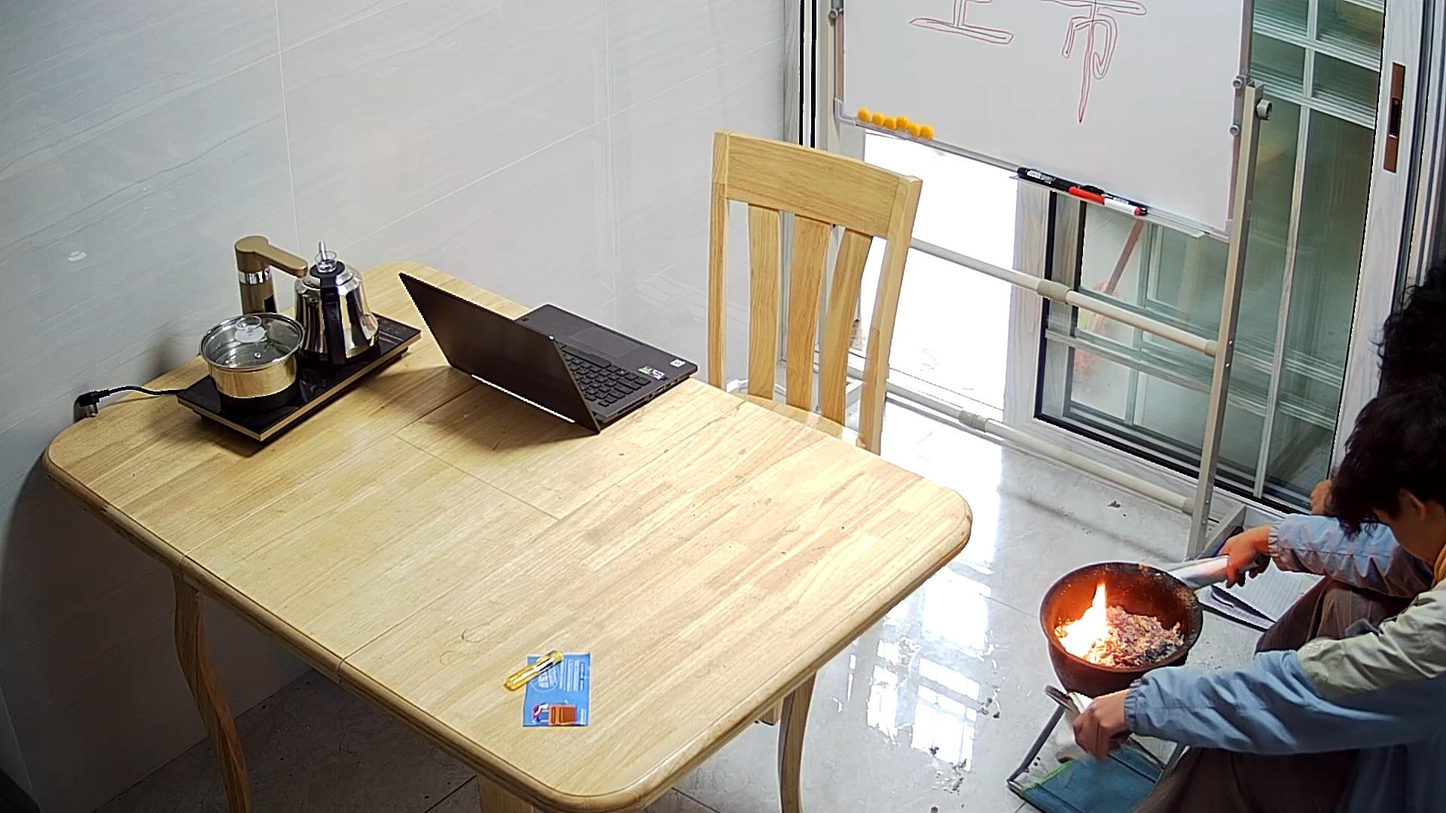fire: (1060, 585, 1107, 656)
